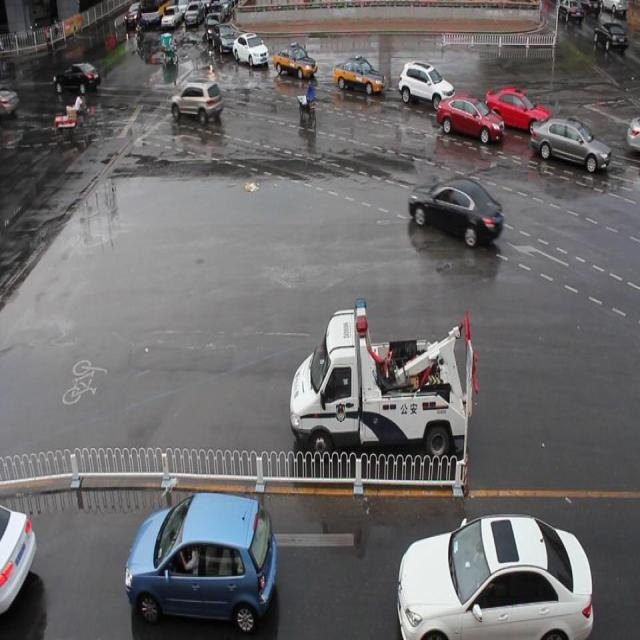bus: (289, 295, 478, 459)
car: (395, 513, 591, 640), (124, 488, 276, 632), (408, 174, 501, 247), (528, 115, 610, 175), (1, 499, 38, 614), (437, 92, 502, 146), (485, 82, 549, 134), (399, 58, 454, 110), (171, 79, 223, 126), (332, 54, 384, 97), (274, 41, 316, 83), (232, 32, 268, 70), (214, 23, 237, 59)
